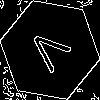V: (25, 25, 79, 80)
